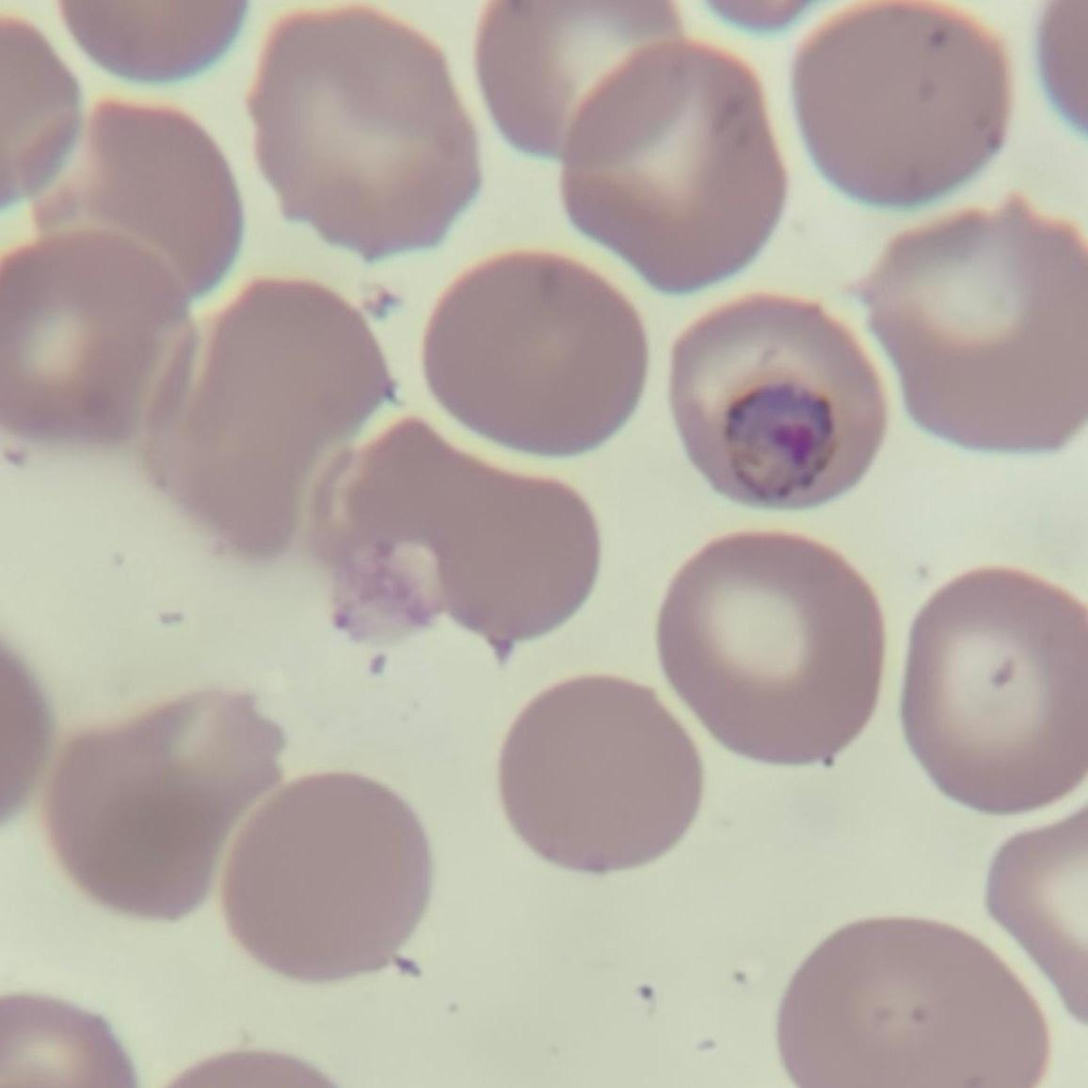Infected: (672, 303, 883, 508)
Uninfected: (151, 277, 387, 556), (333, 422, 598, 650), (248, 2, 478, 260), (43, 687, 288, 919), (559, 44, 776, 293), (868, 217, 1088, 449), (663, 535, 883, 758), (420, 251, 645, 457), (777, 915, 1042, 1088), (791, 0, 1008, 211), (905, 569, 1088, 812), (216, 770, 431, 975), (2, 238, 201, 445), (499, 676, 702, 872), (29, 108, 232, 294), (476, 0, 692, 160)
